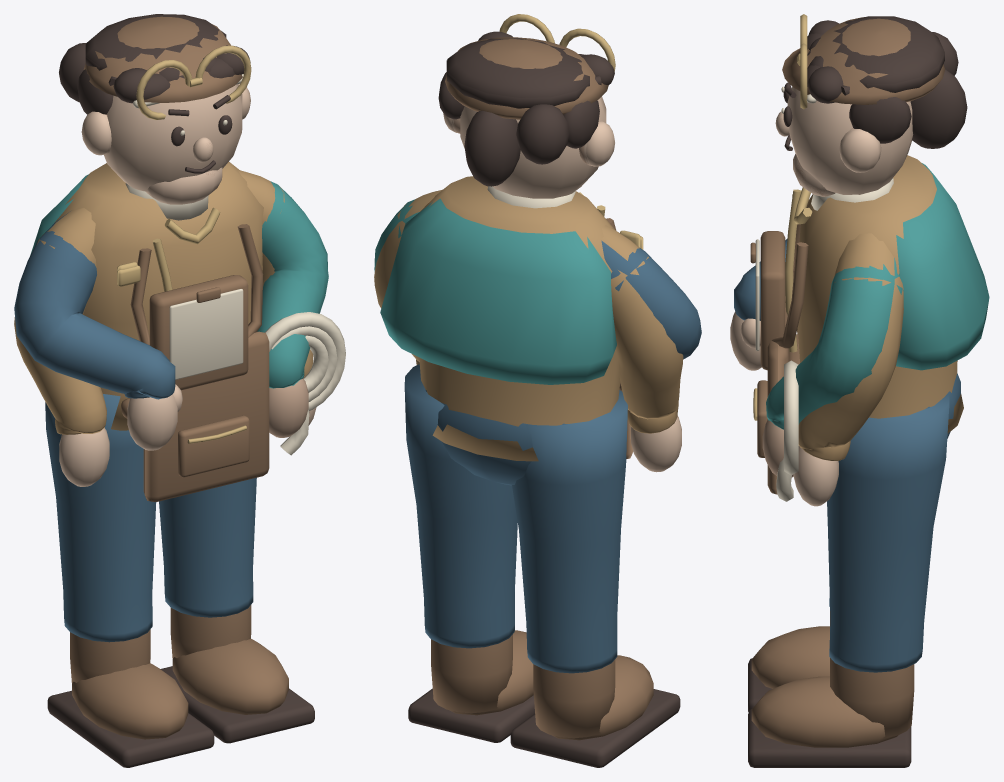
The model's file is world09-dock-workers-v1.glb.
3 renders of one model, left to right at view 1: azimuth 30°, elevation 25°; view 2: azimuth 150°, elevation 25°; view 3: azimuth 270°, elevation 25°, orthographic. The views are drawn at different scales.
Visible parts, largest first — view 1: dock-carpenter-navy, dock-carpenter-leather, waisted-short-outerwear, dock-carpenter-body-leather, single-soft-cloth-sleeve-L.002, dock-carpenter-head-skin-light, single-soft-cloth-sleeve-R.001, dock-carpenter-hair-dark, single-piece-round-work-cap, clipboard-page, single-soft-cloth-sleeve-L, dock-mooring-hand-head-hair-dark (+14 smaller); view 2: dock-carpenter-navy, short-navigator-cloak, waisted-short-outerwear, dock-carpenter-leather, single-soft-cloth-sleeve-L, dock-mooring-hand-head-hair-dark, dock-carpenter-hair-dark, dock-navigator-head-hair-dark, dock-carpenter-head-skin-light, single-soft-cloth-sleeve-L.002, single-piece-round-work-cap, joined-hand-under-sleeve-L (+6 smaller); view 3: dock-carpenter-navy, dock-carpenter-leather, waisted-short-outerwear, short-navigator-cloak, single-soft-cloth-sleeve-R.001, dock-carpenter-head-skin-light, single-soft-cloth-sleeve-R, dock-mooring-hand-head-hair-dark, single-piece-round-work-cap, dock-carpenter-hair-dark, dock-navigator-head-hair-dark, dock-carpenter-body-leather (+13 smaller).
Part boxes in pixels (x1,y1,x2,y2): dock-carpenter-navy: [45, 394, 256, 642]; dock-carpenter-leather: [70, 605, 288, 739]; waisted-short-outerwear: [54, 162, 263, 430]; dock-carpenter-body-leather: [121, 224, 269, 501]; single-soft-cloth-sleeve-L.002: [14, 211, 175, 399]; dock-carpenter-head-skin-light: [81, 84, 250, 204]; single-soft-cloth-sleeve-R.001: [257, 181, 328, 388]; dock-carpenter-hair-dark: [47, 666, 314, 767]; single-piece-round-work-cap: [83, 16, 242, 102]; clipboard-page: [169, 289, 243, 379]; single-soft-cloth-sleeve-L: [14, 208, 106, 434]; dock-mooring-hand-head-hair-dark: [59, 14, 250, 103]; dock-carpenter-navy: [404, 364, 627, 673]; short-navigator-cloak: [380, 198, 616, 384]; waisted-short-outerwear: [419, 176, 620, 461]; dock-carpenter-leather: [431, 630, 653, 740]; single-soft-cloth-sleeve-L: [601, 225, 683, 433]; dock-mooring-hand-head-hair-dark: [447, 31, 614, 164]; dock-carpenter-hair-dark: [408, 688, 680, 767]; dock-navigator-head-hair-dark: [446, 54, 601, 186]; dock-carpenter-head-skin-light: [443, 96, 614, 198]; single-soft-cloth-sleeve-L.002: [601, 240, 701, 359]; single-piece-round-work-cap: [445, 37, 608, 119]; joined-hand-under-sleeve-L: [630, 416, 681, 472]; dock-carpenter-navy: [827, 373, 960, 672]; dock-carpenter-leather: [751, 611, 914, 747]; waisted-short-outerwear: [797, 155, 963, 433]; short-navigator-cloak: [896, 163, 989, 370]; single-soft-cloth-sleeve-R.001: [766, 258, 903, 429]; dock-carpenter-head-skin-light: [775, 87, 913, 196]; single-soft-cloth-sleeve-R: [798, 233, 903, 460]; dock-mooring-hand-head-hair-dark: [807, 16, 958, 103]; single-piece-round-work-cap: [782, 17, 945, 104]; dock-carpenter-hair-dark: [748, 658, 911, 767]; dock-navigator-head-hair-dark: [807, 33, 967, 148]; dock-carpenter-body-leather: [757, 224, 808, 494].
Bounding box in the file's own units: 1.07 × 2.24 × 0.762.
